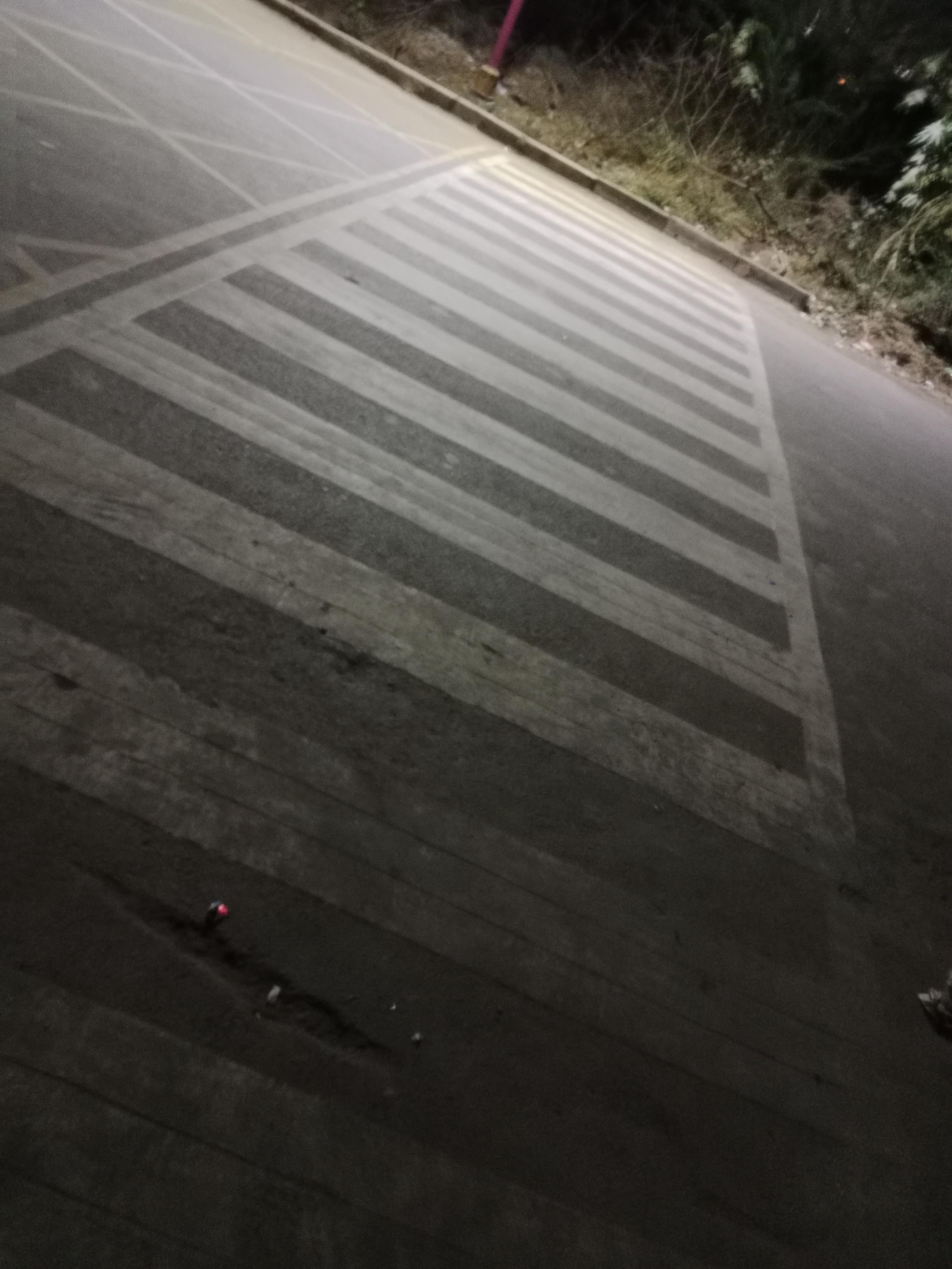crosswalk: (0, 153, 854, 1142)
